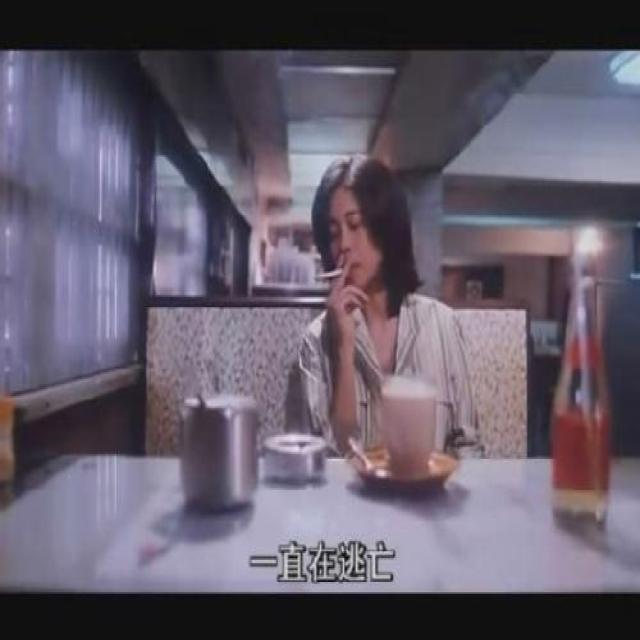cigarette: (310, 260, 342, 288)
